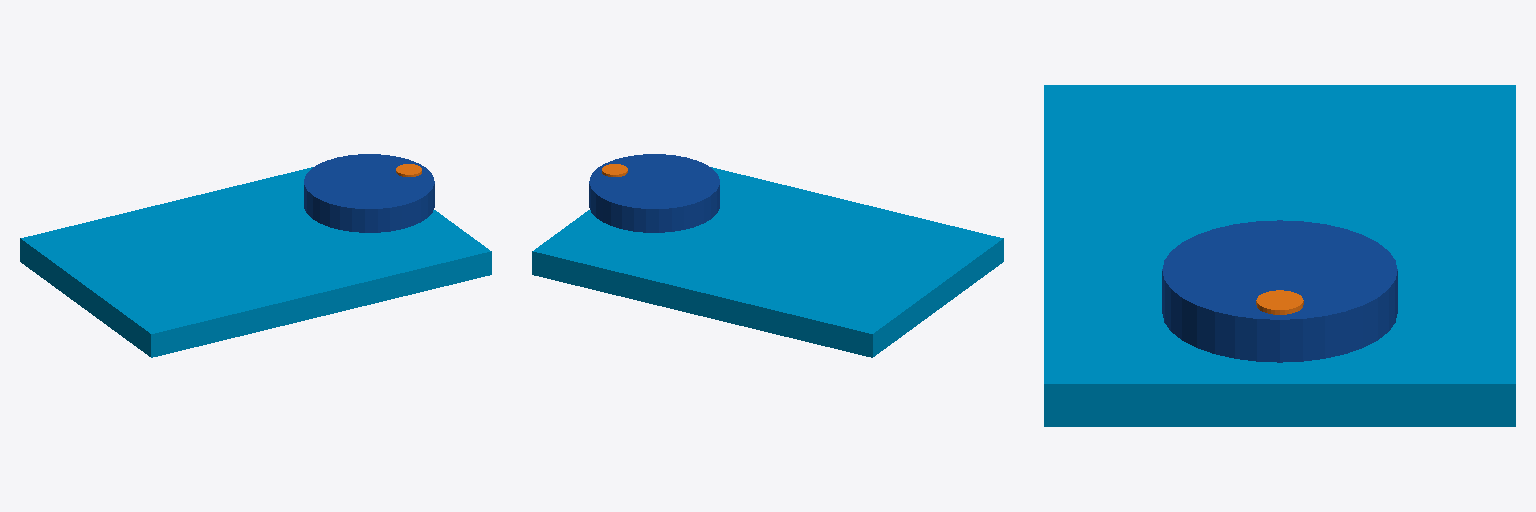
URDF robot description (platform):
<?xml version="1.0" ?>
<robot name="platform">

  <material name="industrial-blue">
    <color rgba="0.11372549019607843 0.34509803921568627 0.6549019607843137 1" />
  </material>

  <material name="arches-blue">
    <color rgba="0.0 0.6235294117647059 0.8313725490196079 1" />
  </material>

  <material name = "heritage-orange">
    <color rgba = "0.96078431 0.50980392 0.11764706 1" />
  </material>

  <link name="world"/>

  <link name="base_link">
    <visual>
      <origin rpy="0 0 0" xyz="0 0 0"/>
      <geometry>
  			<mesh filename="disc.stl" scale="0.1 0.1 0.1"/>
      </geometry>
      <material name="arches-blue"/>
    </visual>
    <collision>
      <origin rpy="0 0 0" xyz="0 0 0"/>
      <geometry>
        <cylinder radius="0.1" length="0.1"/>
      </geometry>
    </collision>
    <inertial>
      <origin rpy="0 0 0" xyz="0 0 0"/>
      <mass value="0"/>
      <inertia ixx="0" ixy="0" ixz="0" iyy="0" iyz="0" izz="0"/>
    </inertial>
  </link>

  <link name="platform_link">
    <visual>
      <origin rpy="0 0 0" xyz="0 0 0"/>
      <geometry>
  			<box size="3 2 0.2"/>
      </geometry>
      <material name = "arches-blue"/>
    </visual>
    <collision>
      <origin rpy="0 0 0" xyz="0 0 0"/>
      <geometry>
  			<box size="3 2 0.2"/>
      </geometry>
    </collision>
    <inertial>
      <origin rpy="0 0 0" xyz="0 0 0"/>
      <mass value="0.6923076923076923"/>
      <inertia ixx="0.23307692307692307" ixy="0" ixz="0" iyy="0.5215384615384615" iyz="0" izz="0.75"/>
    </inertial>
  </link>

  <link name="connector_link">
    <visual>
      <origin rpy="0 0 0" xyz="0 0 0"/>
      <geometry>
  			<mesh filename="disc.stl" scale="0.1 0.1 0.1"/>
      </geometry>
      <material name="industrial-blue"/>
    </visual>
    <collision>
      <origin rpy="0 0 0" xyz="0 0 0"/>
      <geometry>
        <cylinder radius="0.1" length="0.1"/>
      </geometry>
    </collision>
    <inertial>
      <origin rpy="0 0 0" xyz="0 0 0"/>
      <mass value="0"/>
      <inertia ixx="0" ixy="0" ixz="0" iyy="0" iyz="0" izz="0"/>
    </inertial>
  </link>

  <link name="wheel_link">
    <visual>
      <origin rpy="0 0 0" xyz="0 0 0"/>
      <geometry>
  			<mesh filename="disc.stl" scale="0.5 0.5 0.2"/>
      </geometry>
      <material name = "industrial-blue"/>
    </visual>
    <collision>
      <origin rpy="0 0 0" xyz="0 0 0"/>
      <geometry>
        <cylinder radius="0.5" length="0.2"/>
      </geometry>
    </collision>
    <inertial>
      <origin rpy="0 0 0" xyz="0 0 0"/>
      <mass value="0.25"/>
      <inertia ixx="0.016458333333333332" ixy="0" ixz="0" iyy="0.016458333333333332" iyz="0" izz="0.03125"/>
    </inertial>
  </link>

  <link name="fiducial_link">
    <visual>
      <origin rpy="0 0 0" xyz="0 0 0"/>
      <geometry>
  			<mesh filename="disc.stl" scale="0.1 0.1 0.04"/>
      </geometry>
      <material name = "heritage-orange"/>
    </visual>
    <inertial>
      <origin rpy="0 0 0" xyz="0 0 0"/>
      <mass value="0"/>
      <inertia ixx="0" ixy="0" ixz="0" iyy="0" iyz="0" izz="0"/>
    </inertial>
  </link>

  <joint name="world_to_base_fixed" type="fixed">
		<parent link = "world" />
		<child link = "base_link" />
    <origin xyz = "0 0 0.05" />
	</joint>

  <joint name="base_to_platform" type="continuous">
		<parent link = "base_link" />
		<child link = "platform_link" />
		<origin xyz = "0 0 0.15" />
		<axis xyz = "0 0 1" />
		<limit velocity="1000"/>
	</joint>

  <joint name="platform_to_connector_fixed" type="fixed">
		<parent link = "platform_link" />
		<child link = "connector_link" />
    <origin xyz = "1 0 0.15" />
	</joint>

  <joint name="connector_to_wheel" type="continuous">
		<parent link = "connector_link" />
		<child link = "wheel_link" />
		<origin xyz = "0 0 0.15" />
		<axis xyz = "0 0 1" />
		<limit effort="1000" velocity="1000"/>
	</joint>

  <joint name="wheel_to_fiducial_fixed" type="fixed">
		<parent link = "wheel_link" />
		<child link = "fiducial_link" />
    <origin xyz = "0.35 0 0.102" />
	</joint>

</robot>

--- Facts derived from the render (not from the file) ---
The picture shows the robot from 3 angles, left to right: view 1: azimuth 30°, elevation 25°; view 2: azimuth 150°, elevation 25°; view 3: azimuth 270°, elevation 25°; orthographic projection.
Model platform with 6 links and 5 joints (2 continuous, 3 fixed), rooted at world, posed all joints at 0.
Visible links, largest first — view 1: platform_link, wheel_link; view 2: platform_link, wheel_link; view 3: platform_link, wheel_link, fiducial_link.
Link boxes in pixels (box(x1,y1,x2,y2)): platform_link: box(20, 167, 491, 357); wheel_link: box(304, 154, 434, 232); platform_link: box(532, 167, 1003, 357); wheel_link: box(589, 154, 719, 232); platform_link: box(1044, 85, 1515, 426); wheel_link: box(1162, 220, 1397, 362); fiducial_link: box(1256, 290, 1303, 314).
Size in the robot's own frame: 3 by 2 by 0.622 metres.
Meshes: 1 distinct files referenced, 4 mesh visuals loaded (1 binary STL).